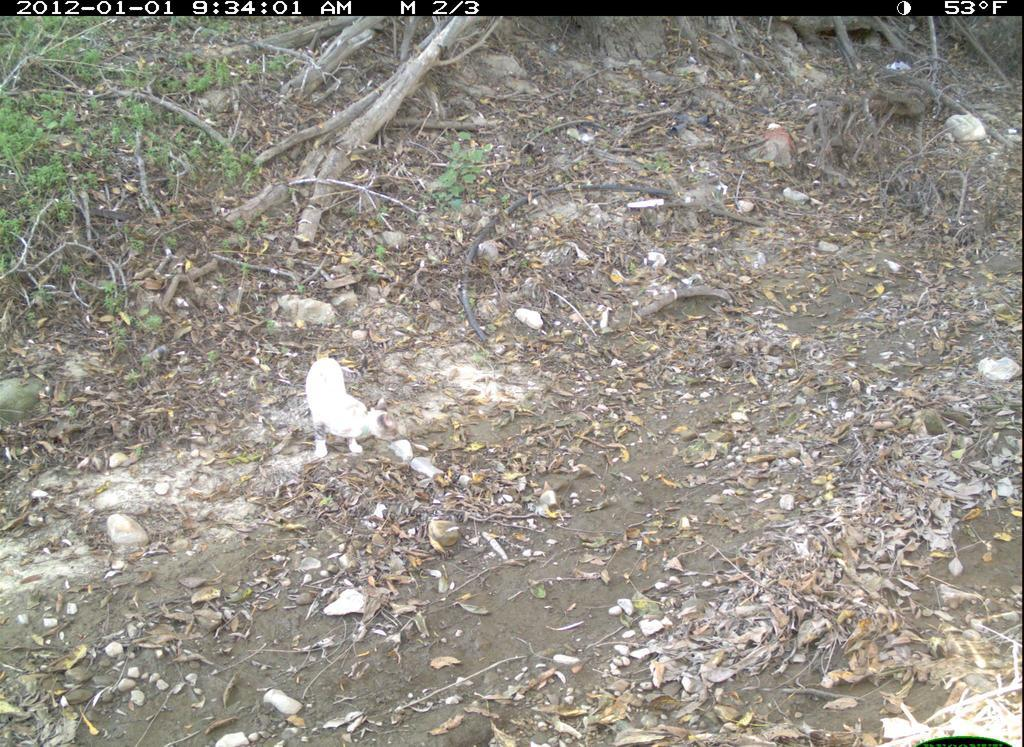cat: (292, 358, 396, 472)
